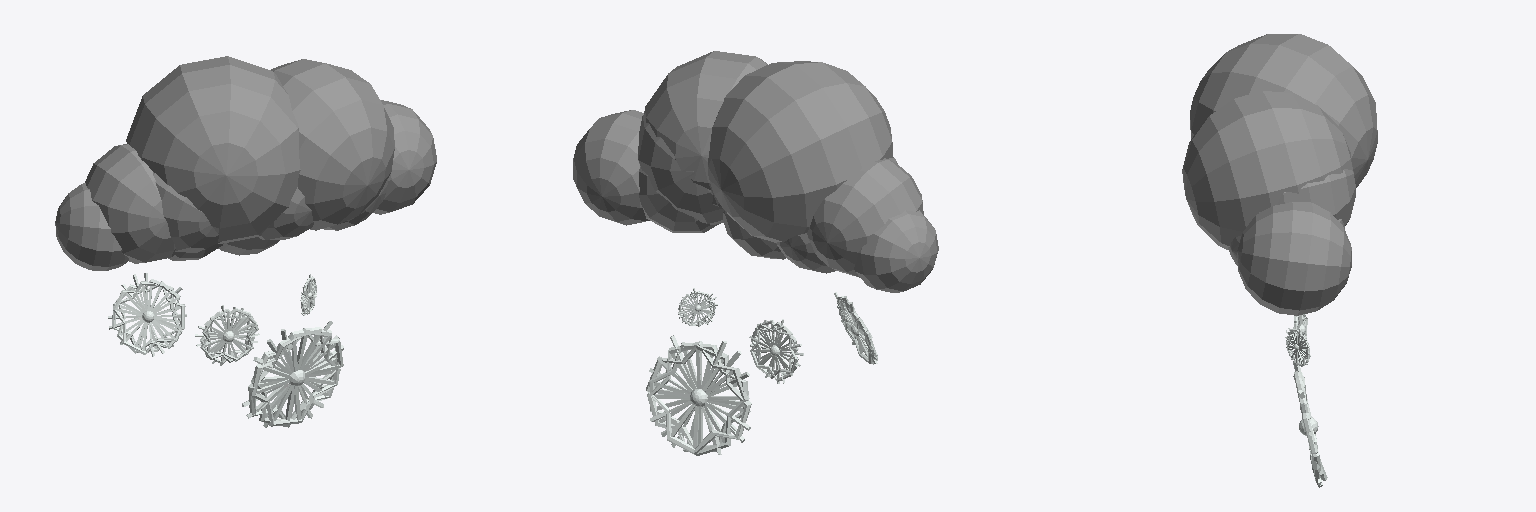
Rendered from snow.obj.
3 renders of one model, left to right at view 1: azimuth 30°, elevation 25°; view 2: azimuth 150°, elevation 25°; view 3: azimuth 270°, elevation 25°, orthographic.
Parts seen in each view (by area): view 1: group[number redacted], group[number redacted], group[number redacted], group[number redacted], group[number redacted], group[number redacted], group[number redacted], group[number redacted], group[number redacted], group[number redacted], group[number redacted], group[number redacted]; view 2: group[number redacted], group[number redacted], group[number redacted], group[number redacted], group[number redacted], group[number redacted], group[number redacted], group[number redacted], group[number redacted], group[number redacted], group[number redacted], group[number redacted]; view 3: group[number redacted], group[number redacted], group[number redacted], group[number redacted].
Boxes of the visible parts, <box> form: group[number redacted]: <box>126,56,300,243</box>; group[number redacted]: <box>271,59,394,230</box>; group[number redacted]: <box>85,144,176,263</box>; group[number redacted]: <box>373,100,436,214</box>; group[number redacted]: <box>55,183,128,270</box>; group[number redacted]: <box>153,172,219,252</box>; group[number redacted]: <box>259,187,313,239</box>; group[number redacted]: <box>249,327,339,426</box>; group[number redacted]: <box>248,329,343,418</box>; group[number redacted]: <box>251,328,340,427</box>; group[number redacted]: <box>218,237,279,255</box>; group[number redacted]: <box>113,279,180,354</box>; group[number redacted]: <box>708,61,893,242</box>; group[number redacted]: <box>644,51,767,212</box>; group[number redacted]: <box>807,158,923,277</box>; group[number redacted]: <box>573,110,649,225</box>; group[number redacted]: <box>854,210,938,292</box>; group[number redacted]: <box>638,113,724,224</box>; group[number redacted]: <box>639,167,720,232</box>; group[number redacted]: <box>646,344,751,454</box>; group[number redacted]: <box>647,341,749,455</box>; group[number redacted]: <box>776,233,835,273</box>; group[number redacted]: <box>723,211,785,259</box>; group[number redacted]: <box>649,342,750,451</box>; group[number redacted]: <box>1182,91,1353,249</box>; group[number redacted]: <box>1190,34,1377,187</box>; group[number redacted]: <box>1237,202,1351,315</box>; group[number redacted]: <box>1259,169,1355,225</box>.
Bounding box in the file's own units: 2.29 × 2.41 × 1.08.